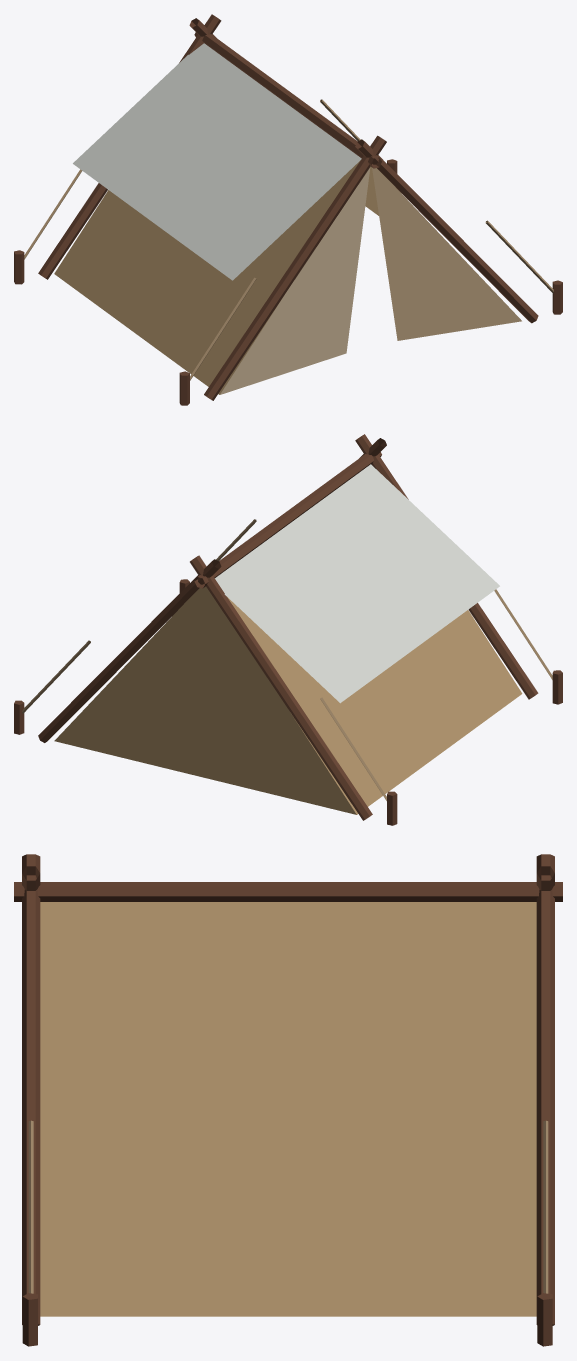
3 renders of one model, top to bottom at view 1: azimuth 30°, elevation 25°; view 2: azimuth 150°, elevation 25°; view 3: azimuth 270°, elevation 25°, orthographic. The views are drawn at different scales.
Parts seen in each view (by area): view 1: C02_低矮覆雪帐篷; view 2: C02_低矮覆雪帐篷; view 3: C02_低矮覆雪帐篷.
Part boxes in pixels (bbox=[...]): C02_低矮覆雪帐篷: bbox=[14, 14, 562, 405]; C02_低矮覆雪帐篷: bbox=[14, 434, 562, 825]; C02_低矮覆雪帐篷: bbox=[14, 854, 562, 1346].
Size of the model in its own units: 2.4 by 1.34 by 1.92.
